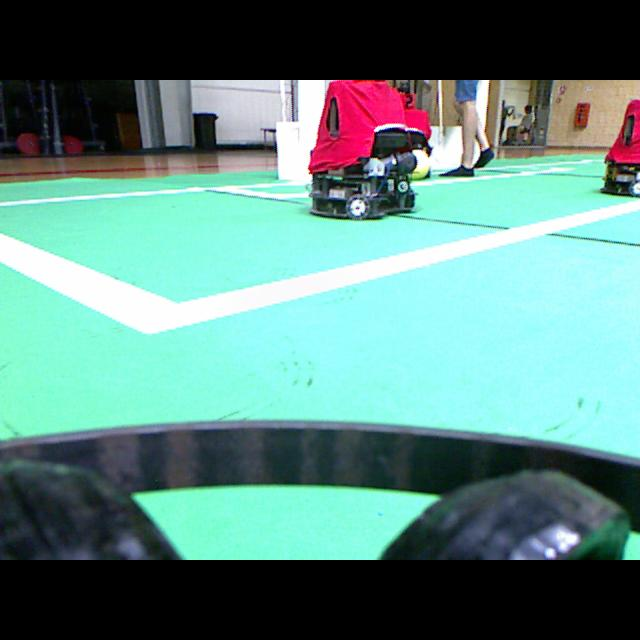ball: (412, 150, 430, 179)
